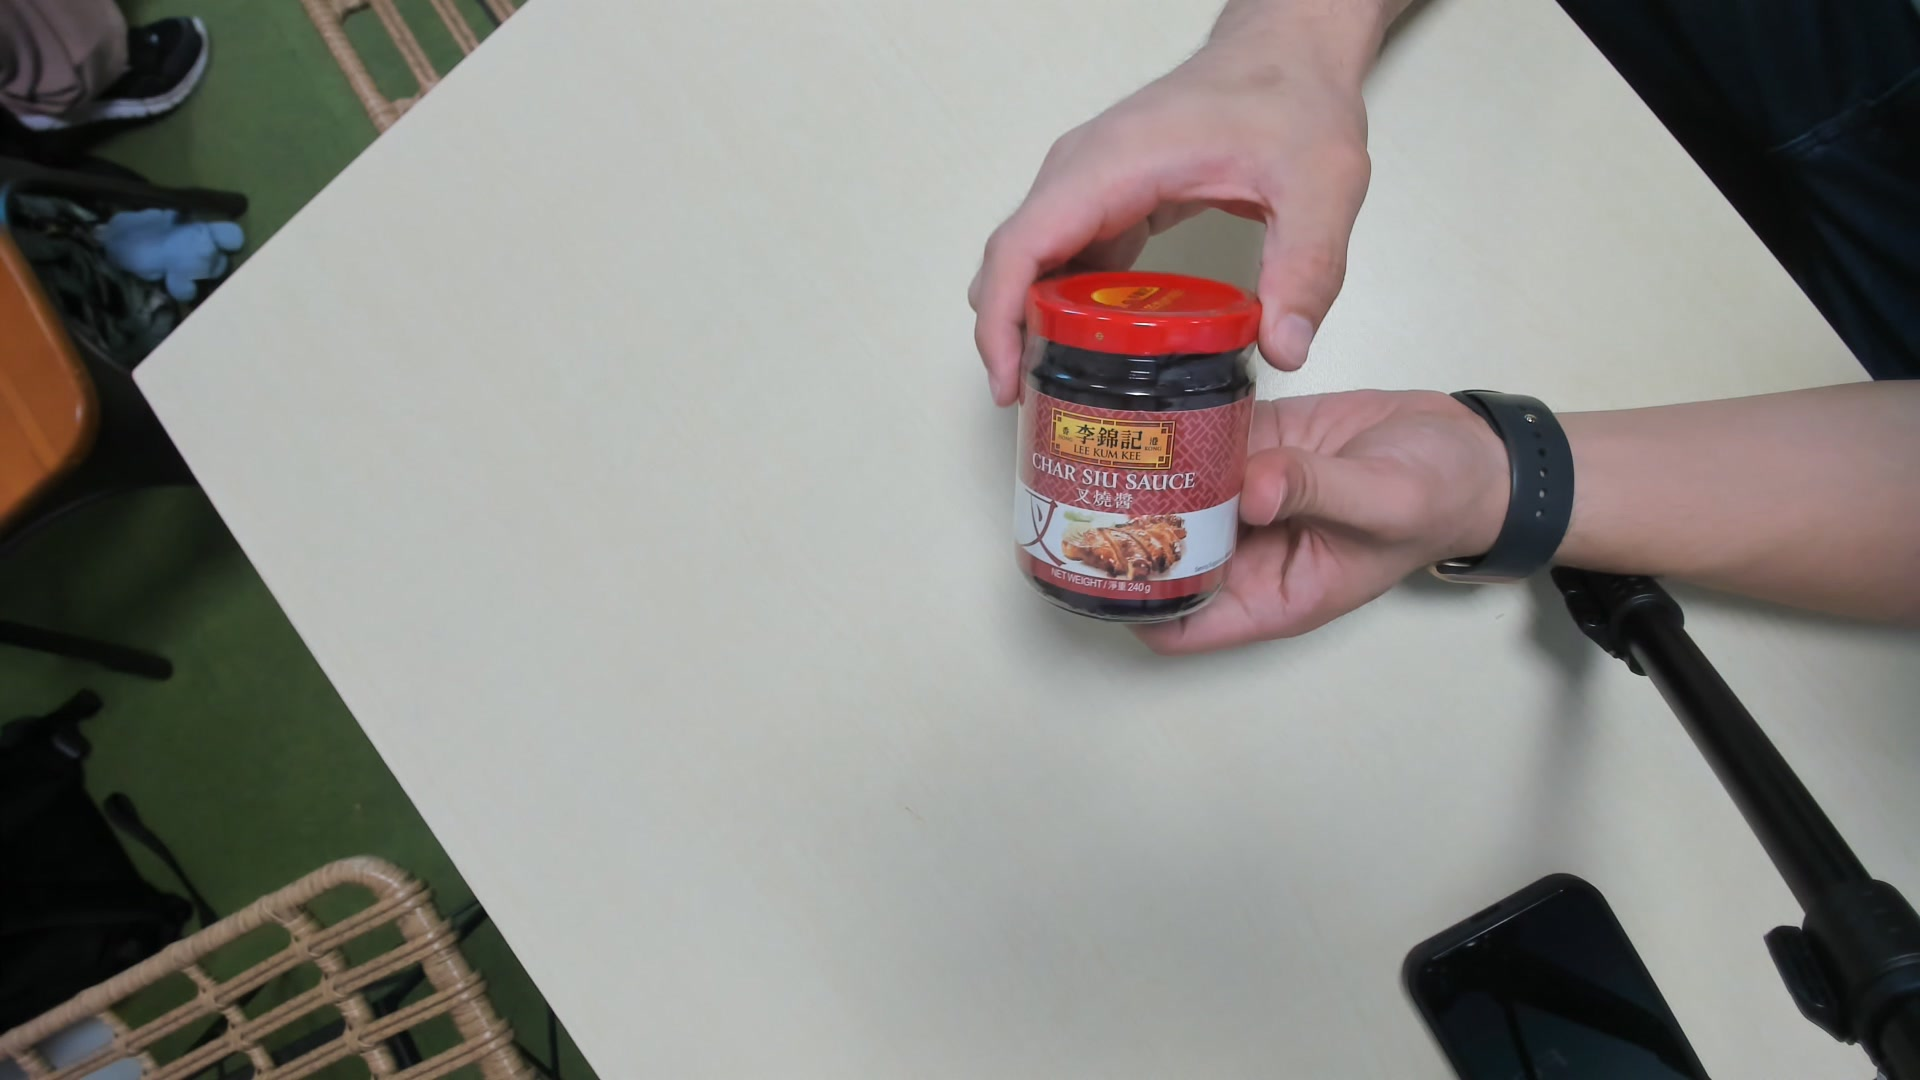OtherSauceDressing_200-299g_NonHalal_NonHealthy: (1009, 277, 1255, 625)
